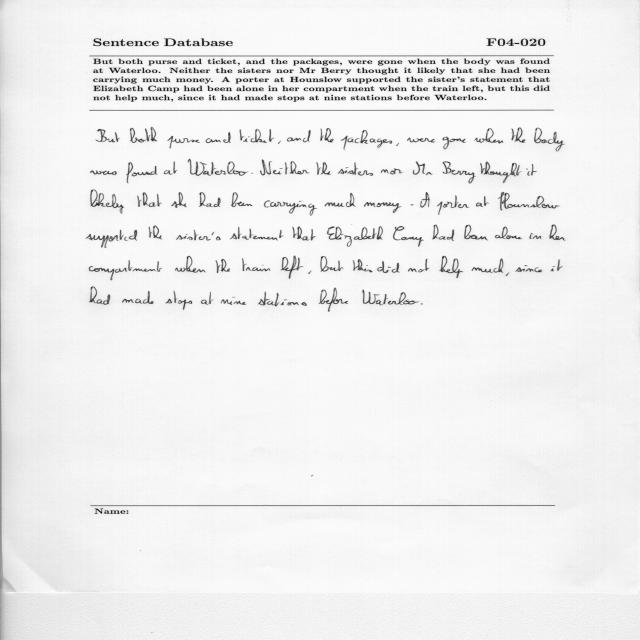word: (90, 260, 163, 280), (327, 226, 383, 247), (498, 192, 560, 210), (341, 130, 392, 150), (188, 159, 248, 176), (86, 230, 137, 248), (480, 162, 522, 183), (362, 290, 419, 305), (264, 201, 317, 216), (91, 190, 124, 214), (260, 160, 309, 176), (534, 128, 565, 152), (258, 292, 307, 307), (443, 162, 476, 184), (319, 288, 348, 312), (230, 227, 283, 240), (126, 162, 157, 183), (393, 226, 424, 247), (437, 195, 469, 215), (439, 256, 464, 278), (281, 256, 304, 279), (175, 256, 206, 273), (166, 291, 192, 310), (240, 129, 275, 143), (338, 162, 373, 176), (472, 258, 504, 273), (475, 128, 504, 144), (176, 230, 221, 240), (325, 193, 356, 207), (130, 127, 157, 143), (122, 291, 154, 304), (364, 202, 401, 213), (167, 136, 200, 148), (320, 256, 344, 272), (90, 287, 111, 305), (137, 192, 162, 207), (433, 224, 455, 241), (242, 259, 270, 272), (292, 226, 316, 241), (464, 225, 488, 240), (199, 192, 221, 207), (231, 192, 253, 207), (495, 227, 522, 239), (96, 129, 120, 142), (287, 130, 311, 142), (205, 132, 231, 143), (443, 137, 466, 149), (377, 261, 400, 273), (408, 259, 429, 272), (413, 161, 432, 175), (353, 259, 373, 272), (171, 192, 187, 208), (550, 225, 566, 241), (512, 127, 526, 143), (221, 297, 247, 305), (320, 128, 334, 142), (216, 259, 230, 273), (515, 265, 542, 272), (164, 161, 177, 175), (317, 162, 331, 175), (149, 226, 162, 239), (420, 192, 430, 208), (201, 292, 213, 305), (551, 260, 563, 272), (476, 196, 489, 207), (407, 138, 435, 143), (90, 170, 117, 175), (381, 169, 403, 175), (526, 164, 537, 176), (529, 233, 541, 239), (308, 271, 312, 274), (506, 272, 509, 276), (278, 141, 281, 144), (396, 143, 399, 146), (411, 204, 414, 206), (251, 173, 253, 174), (421, 304, 423, 305)
